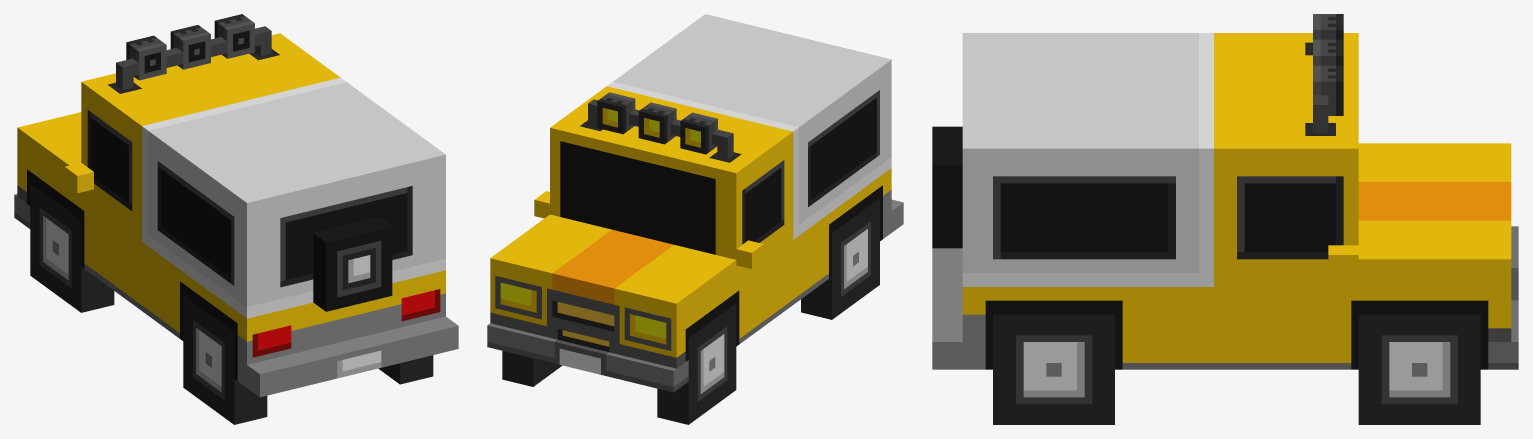
3 renders of one model, left to right at view 1: azimuth 30°, elevation 25°; view 2: azimuth 150°, elevation 25°; view 3: azimuth 270°, elevation 25°, orthographic. The views are drawn at different scales.
Parts seen in each view (by area): view 1: alll cars3-103; view 2: alll cars3-103; view 3: alll cars3-103.
Boxes of the visible parts, box(x1,y1,x2,y2) form: alll cars3-103: box(14, 14, 458, 424); alll cars3-103: box(487, 14, 903, 424); alll cars3-103: box(932, 14, 1518, 424).
Bounding box in the file's own units: 3.04 × 3.33 × 5.57.
Materials: 1 (1 with a texture image).
